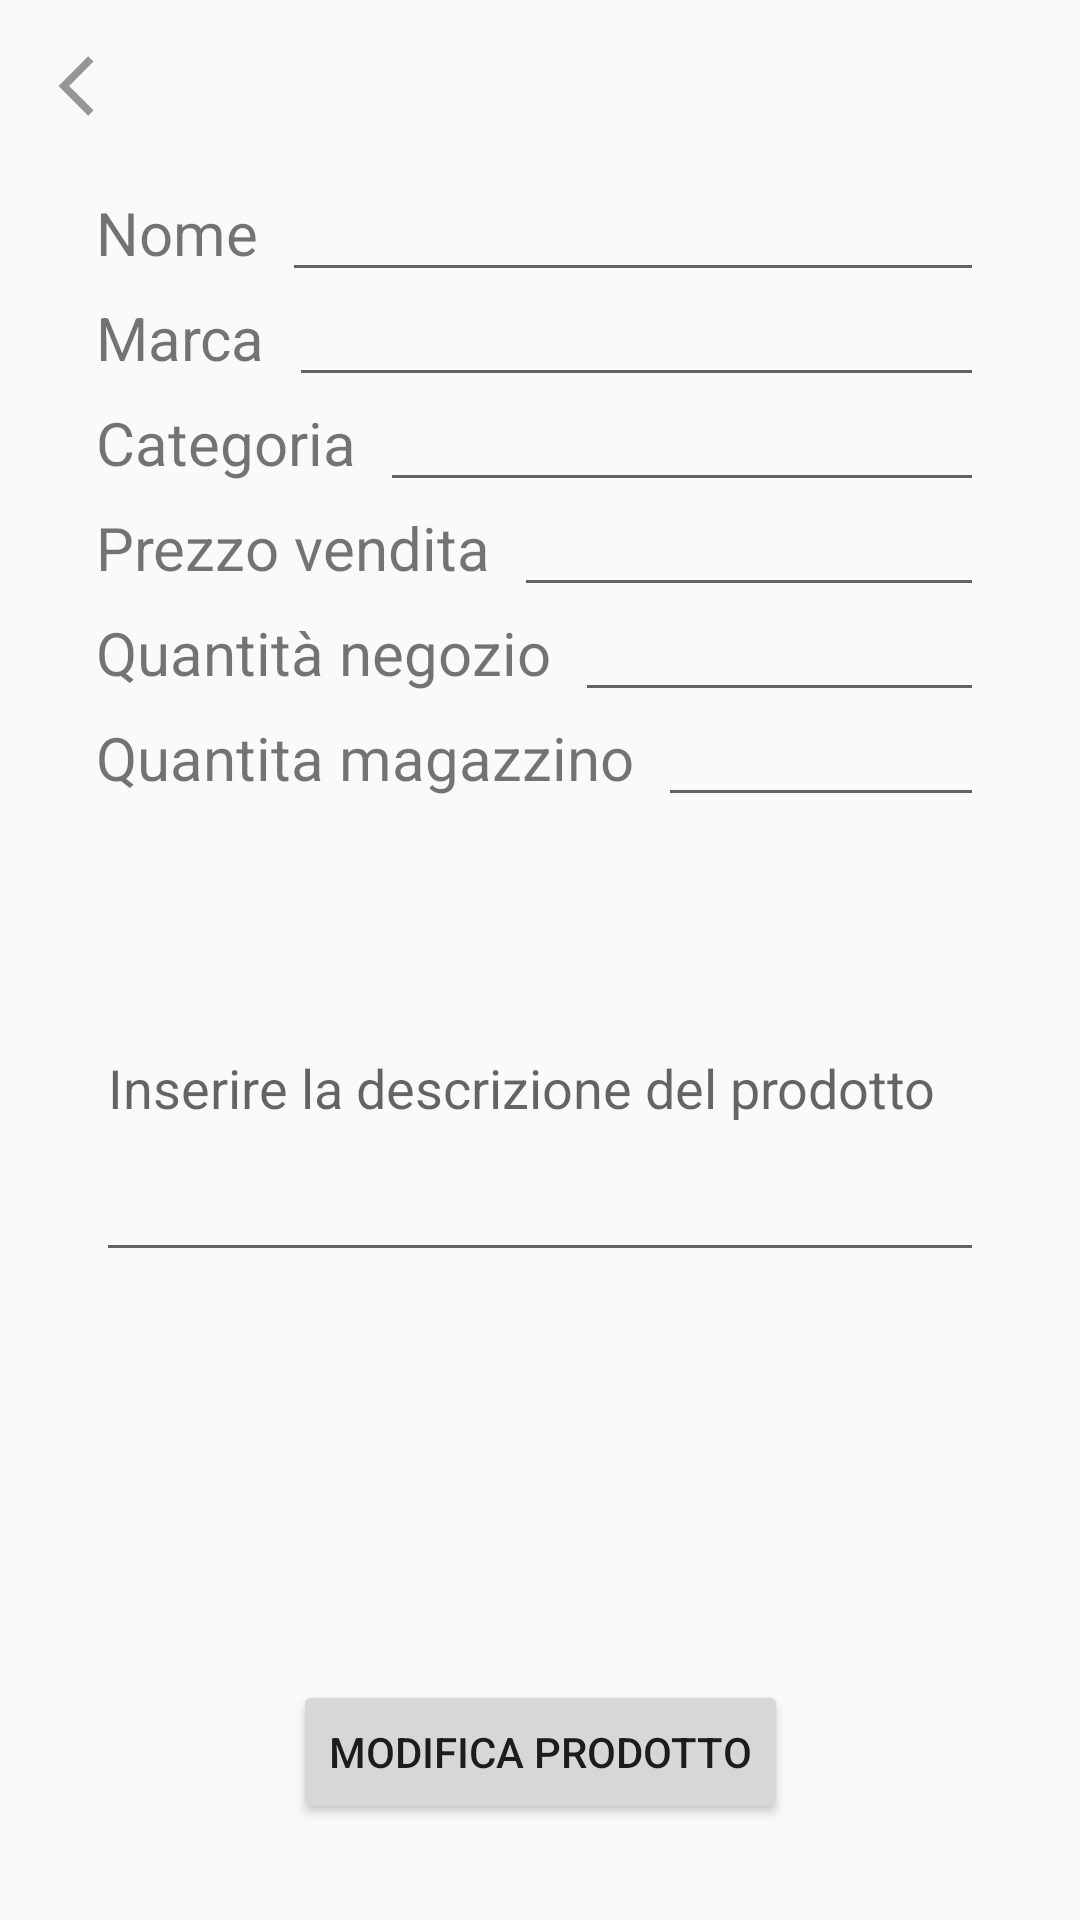

Point at icon controls on the screen. Image size 1080*1920, points as (x=x, y=y).
arrow back: (x=76, y=86)
